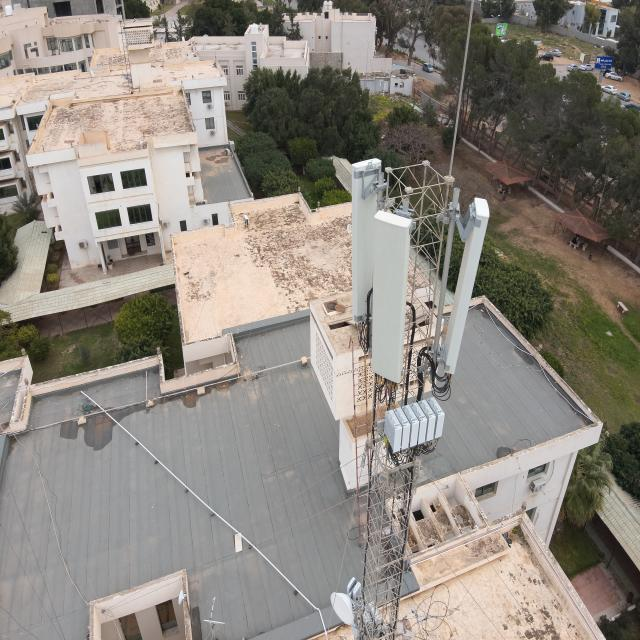antenna: (440, 192, 492, 395), (368, 200, 417, 390), (346, 139, 389, 326)
lighnig-rad: (447, 0, 478, 184)
microware-dish: (328, 574, 363, 626)
power-box: (344, 598, 384, 640)
radio-unit: (381, 396, 448, 458)
